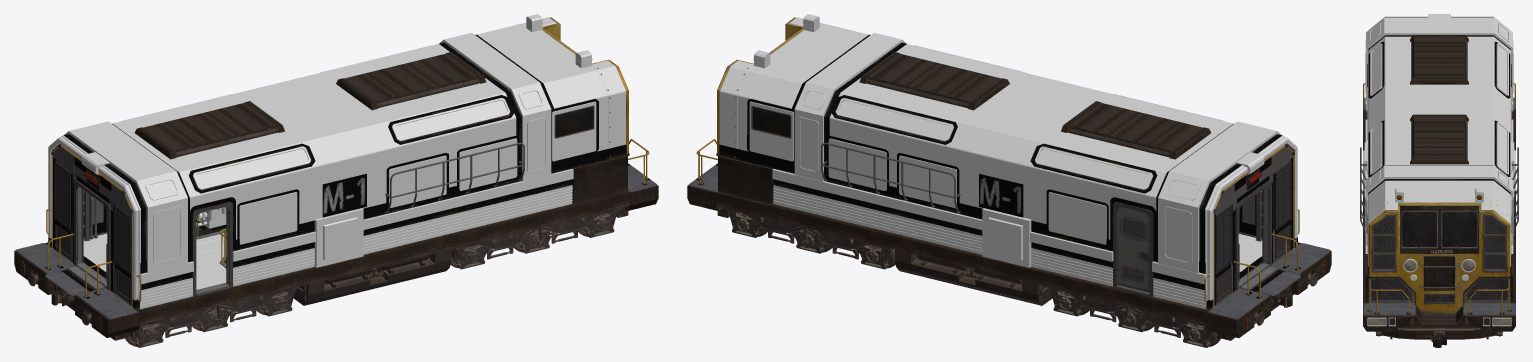
3 renders of one model, left to right at view 1: azimuth 30°, elevation 25°; view 2: azimuth 150°, elevation 25°; view 3: azimuth 270°, elevation 25°, orthographic. The views are drawn at different scales.
Size of the model in its own units: 2.5 by 0.747 by 0.7354.
14 materials, 13 textured.
